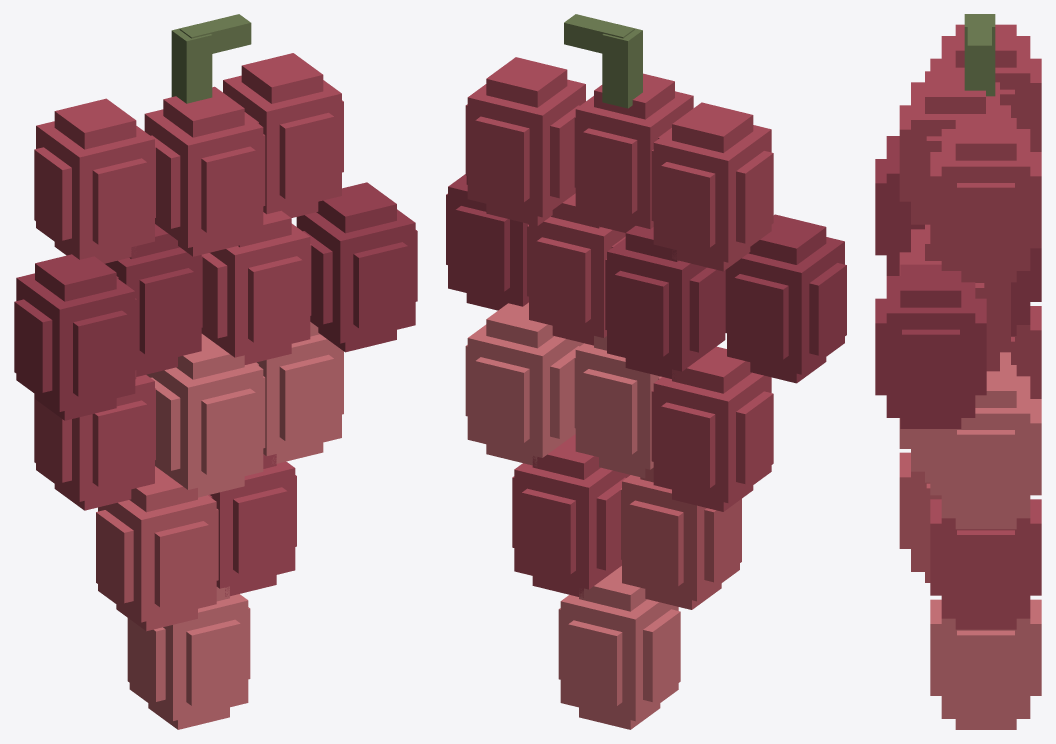
File: GR-05_ifg_nine.glb
3 views of the same model, side by side, from view 1: azimuth 30°, elevation 25°; view 2: azimuth 150°, elevation 25°; view 3: azimuth 270°, elevation 25° (orthographic). The views are drawn at different scales.
Parts seen in each view (by area): view 1: IFG Nine (Jack’s Salute®) · original workbench cubes; view 2: IFG Nine (Jack’s Salute®) · original workbench cubes; view 3: IFG Nine (Jack’s Salute®) · original workbench cubes.
Boxes of the visible parts, x1=… form: IFG Nine (Jack’s Salute®) · original workbench cubes: x1=14, y1=14, x2=417, y2=729; IFG Nine (Jack’s Salute®) · original workbench cubes: x1=446, y1=14, x2=846, y2=729; IFG Nine (Jack’s Salute®) · original workbench cubes: x1=875, y1=14, x2=1041, y2=729.
Size of the model in its own units: 0.1445 by 0.2519 by 0.0544.
